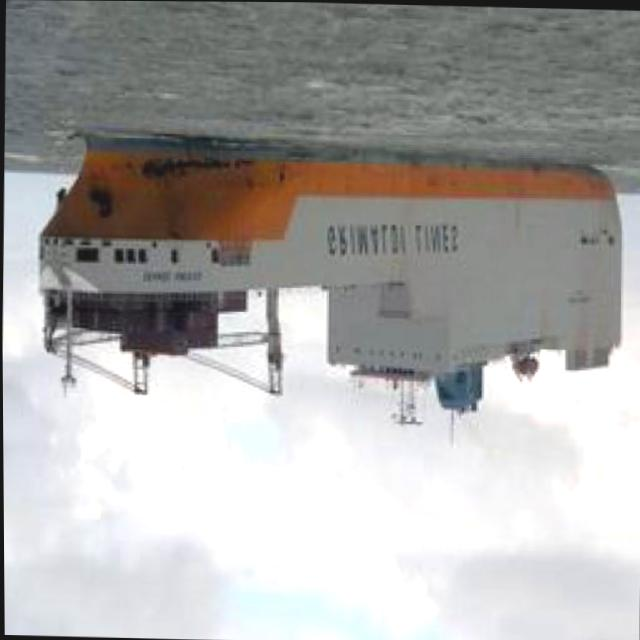ship2: (36, 133, 625, 456)
